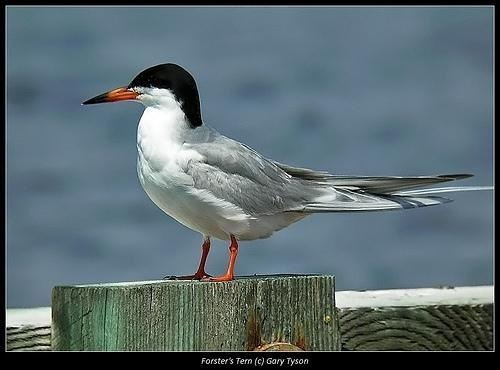bird: (79, 59, 492, 280)
